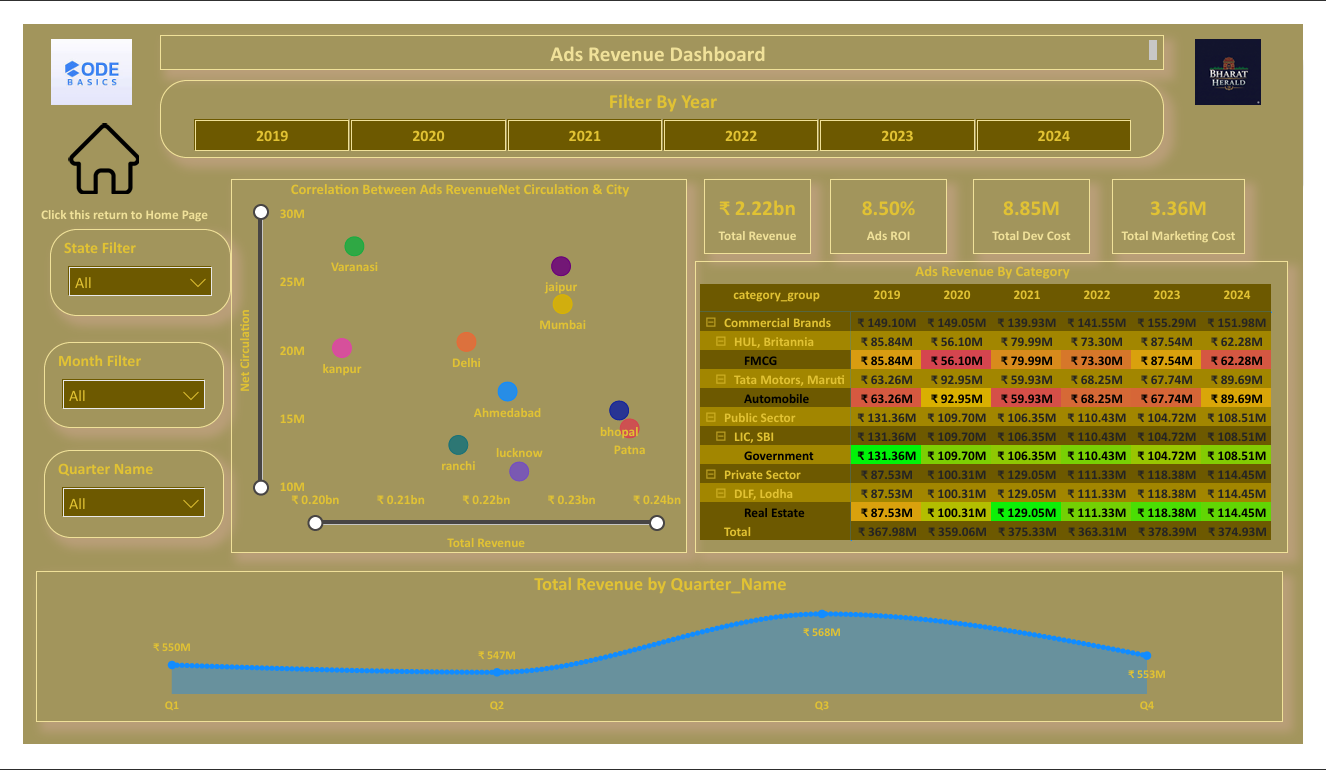

The dashboard page shown, as its layout file describes it:
{"tool":"powerbi","page":{"name":"Ads Revenue Dashboard","canvas":[1280,720],"ordinal":2},"visuals":[{"type":"textbox","box":[136.2,9.7,1003.8,35],"z":0},{"type":"image","box":[0,9.7,136.2,75.9],"z":1000},{"type":"image","box":[1130.2,9.7,149.8,75.9],"z":2000},{"type":"slicer","title":"Filter By Year","fields":{"Values":["UniqueYear.Year"]},"box":[136.2,55.4,1003.8,77.8],"z":3000},{"type":"slicer","title":"Quarter Name","fields":{"Values":["Fact_AdRevenue.Quarter_Name"]},"box":[19.5,424.7,180.9,88.7],"z":4000},{"type":"card","fields":{"Values":["Ads Revenue Measure.Total Revenue"]},"box":[680.1,154.3,107.3,74.5],"z":5000},{"type":"slicer","title":"State Filter","fields":{"Values":["Dim_City.state"]},"box":[25.7,203.9,180.9,86.9],"z":6000},{"type":"slicer","title":"Month Filter","fields":{"Values":["Fact_PrintSales.NewMonth"]},"box":[19.5,316.6,180.9,86],"z":7000},{"type":"lineChart","fields":{"Y":["Ads Revenue Measure.Total Revenue"],"Category":["Fact_AdRevenue.Quarter_Name"]},"box":[11.5,546.2,1247.6,150.7],"z":8000},{"type":"scatterChart","title":"Correlation Between Ads RevenueNet Circulation & City","fields":{"X":["Ads Revenue Measure.Total Revenue"],"Y":["Print Measure.Net Circulation"],"Series":["Dim_City.city"],"Category":["Dim_City.city"]},"box":[206.6,154.3,456.7,373.3],"z":9000},{"type":"pivotTable","title":"Ads Revenue By Category","fields":{"Values":["Ads Revenue Measure.Total Revenue"],"Rows":["Dim_Category.category_group","Dim_Category.example_brands","Dim_Category.standard_ad_category"],"Columns":["UniqueYear.Year"]},"box":[671.2,235.9,592.3,291.7],"z":10000},{"type":"card","fields":{"Values":["Ads Revenue Measure.Ads ROI"]},"box":[806,154.3,117,74.5],"z":11000},{"type":"card","fields":{"Values":["Digital Measure.Total Dev Cost"]},"box":[948.8,154.3,117,74.5],"z":12000},{"type":"card","fields":{"Values":["Digital Measure.Total Marketing Cost"]},"box":[1088,154.3,133,74.5],"z":13000},{"type":"textbox","box":[11.5,174.7,180.9,35.5],"z":14000},{"type":"image","box":[39.9,94,80.7,80.7],"z":15000}]}

Visuals, with their boxes on the page's 1280x720 design canvas (x1, y1, x2, y2). These are canvas units, not pixel positions in the 1326x770 screenshot, which may show the page scaled, cropped or inside an application window:
textbox: {"x1": 136, "y1": 10, "x2": 1140, "y2": 45}
image: {"x1": 0, "y1": 10, "x2": 136, "y2": 86}
image: {"x1": 1130, "y1": 10, "x2": 1280, "y2": 86}
"Filter By Year" slicer: {"x1": 136, "y1": 55, "x2": 1140, "y2": 133}
"Quarter Name" slicer: {"x1": 20, "y1": 425, "x2": 200, "y2": 513}
card - Ads Revenue Measure.Total Revenue: {"x1": 680, "y1": 154, "x2": 787, "y2": 229}
"State Filter" slicer: {"x1": 26, "y1": 204, "x2": 207, "y2": 291}
"Month Filter" slicer: {"x1": 20, "y1": 317, "x2": 200, "y2": 403}
lineChart - Ads Revenue Measure.Total Revenue x Fact_AdRevenue.Quarter_Name: {"x1": 12, "y1": 546, "x2": 1259, "y2": 697}
"Correlation Between Ads RevenueNet Circulation & City" scatterChart: {"x1": 207, "y1": 154, "x2": 663, "y2": 528}
"Ads Revenue By Category" pivotTable: {"x1": 671, "y1": 236, "x2": 1264, "y2": 528}
card - Ads Revenue Measure.Ads ROI: {"x1": 806, "y1": 154, "x2": 923, "y2": 229}
card - Digital Measure.Total Dev Cost: {"x1": 949, "y1": 154, "x2": 1066, "y2": 229}
card - Digital Measure.Total Marketing Cost: {"x1": 1088, "y1": 154, "x2": 1221, "y2": 229}
textbox: {"x1": 12, "y1": 175, "x2": 192, "y2": 210}
image: {"x1": 40, "y1": 94, "x2": 121, "y2": 175}
